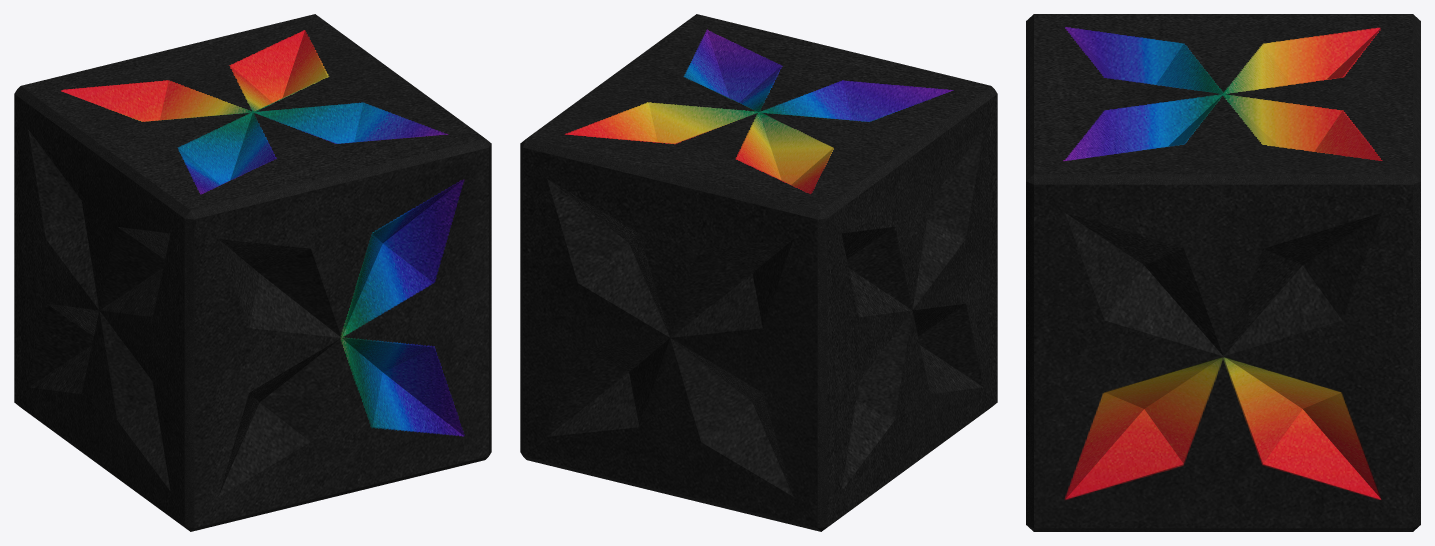
File: Rainbow DV.glb
3 renders of one model, left to right at view 1: azimuth 30°, elevation 25°; view 2: azimuth 150°, elevation 25°; view 3: azimuth 270°, elevation 25°, orthographic. The views are drawn at different scales.
Parts seen in each view (by area): view 1: Mesh_0; view 2: Mesh_0; view 3: Mesh_0.
Part boxes in pixels (x1,y1,x2,y2): Mesh_0: (14,14,491,531); Mesh_0: (520,14,997,531); Mesh_0: (1026,14,1420,531).
Size of the model in its own units: 104 by 104 by 104.
1 material, 1 textured.
